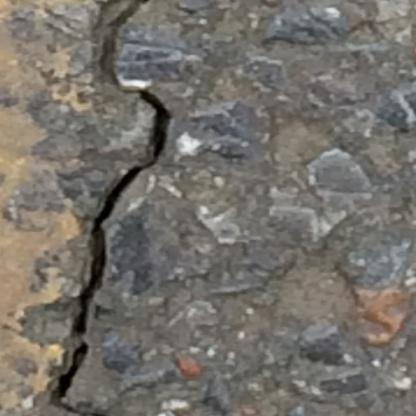Cracks: (47, 33, 177, 416), (104, 0, 159, 31)
